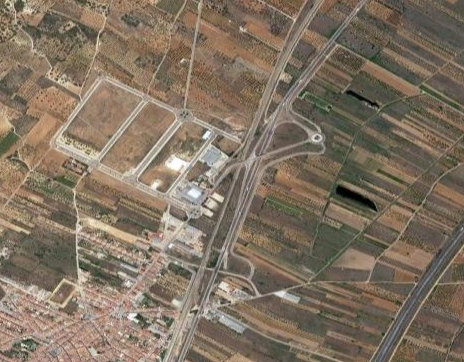industrial: (52, 83, 231, 199)
motorway: (164, 138, 273, 362), (234, 1, 370, 140), (344, 222, 464, 362)
